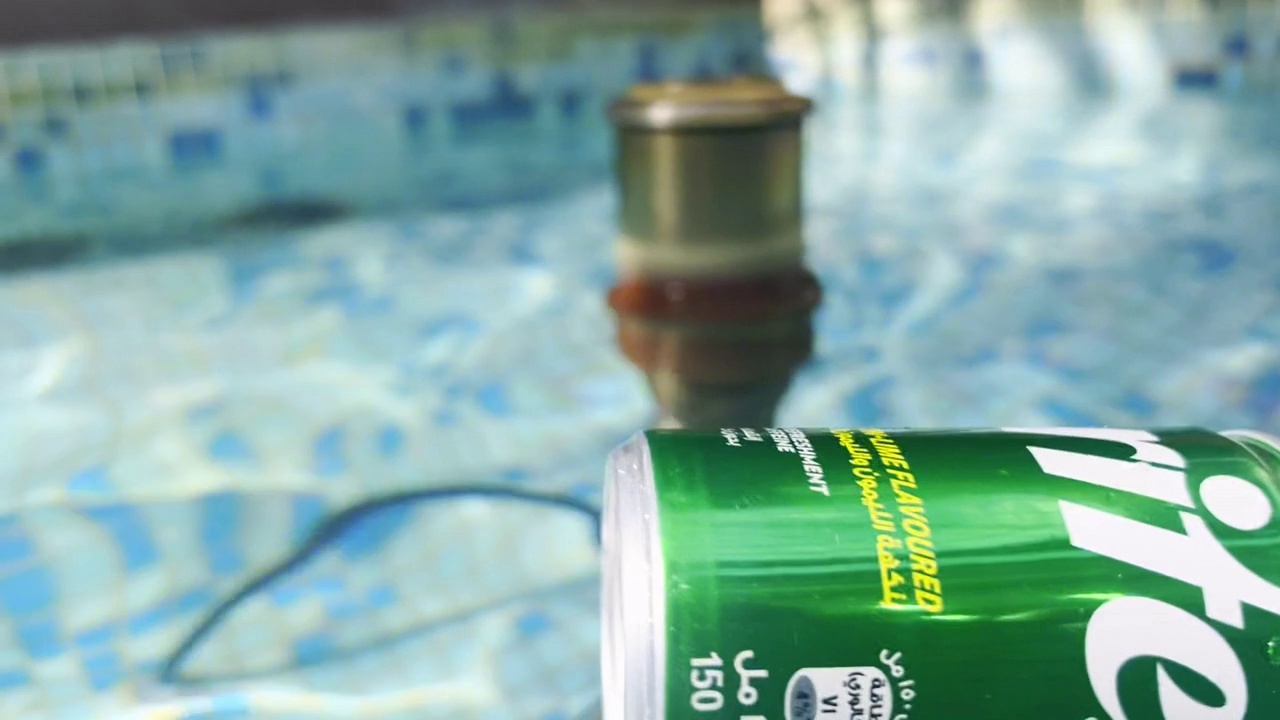debris: (582, 404, 1280, 720)
